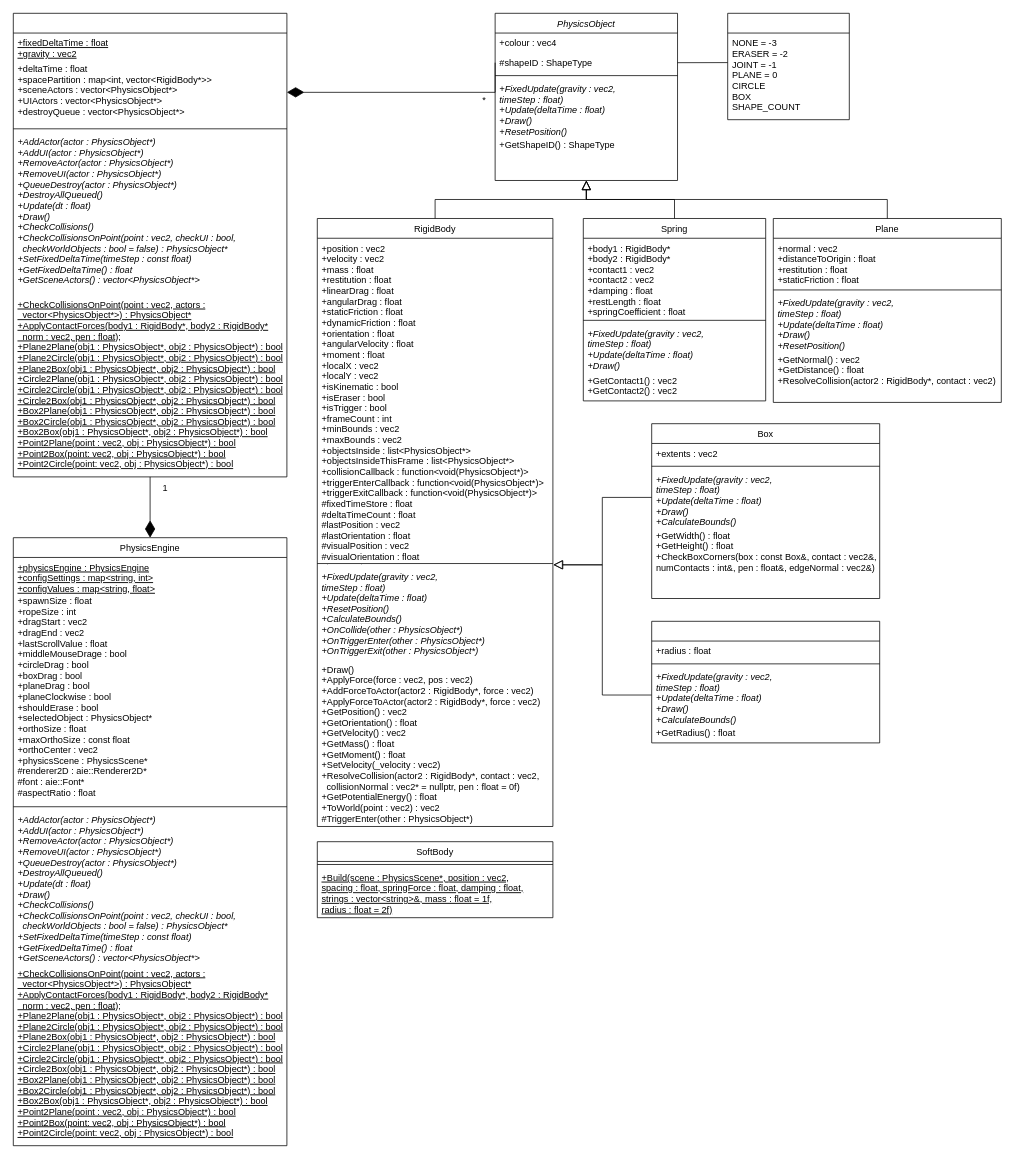
This 1015x1161 diagram has some shape labels left out. The box of each missing label's shape, as (x1, y1, x2, y2) in pixels:
Circle: (651, 621, 880, 743)
PhysicsScene: (13, 13, 287, 477)
ShapeType: (727, 13, 849, 120)
